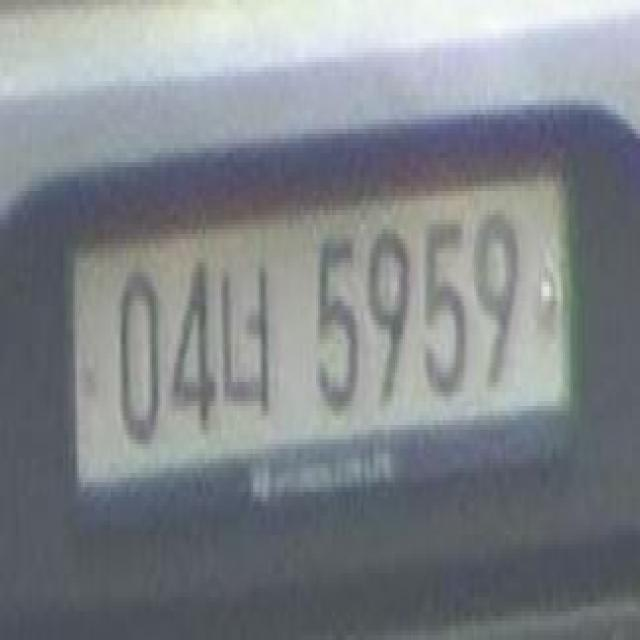illegal_plate: (75, 156, 574, 511)
